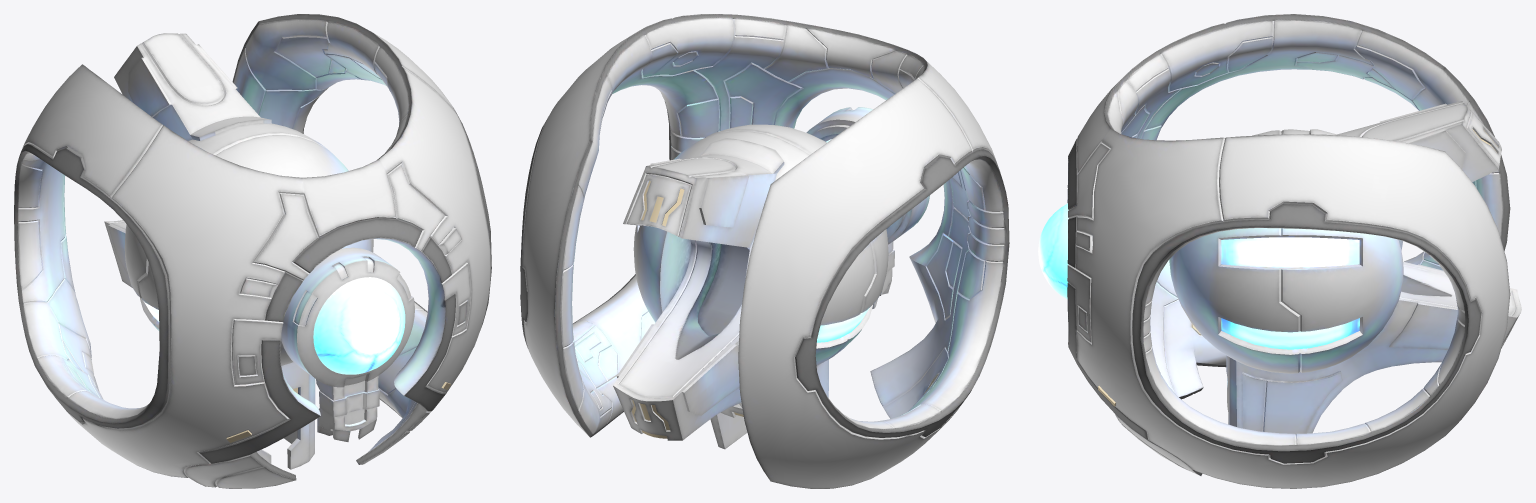
Rendered from spark.glb.
3 renders of one model, left to right at view 1: azimuth 30°, elevation 25°; view 2: azimuth 150°, elevation 25°; view 3: azimuth 270°, elevation 25°, orthographic. The views are drawn at different scales.
Parts seen in each view (by area): view 1: GuiltySpark; view 2: GuiltySpark; view 3: GuiltySpark.
Part boxes in pixels (box(x1,y1,x2,y2)): GuiltySpark: box(14, 14, 491, 488); GuiltySpark: box(520, 14, 1009, 488); GuiltySpark: box(1038, 14, 1521, 488).
Bounding box in the file's own units: 1.7 × 1.71 × 1.99.
Materials: 1 (1 with a texture image).
